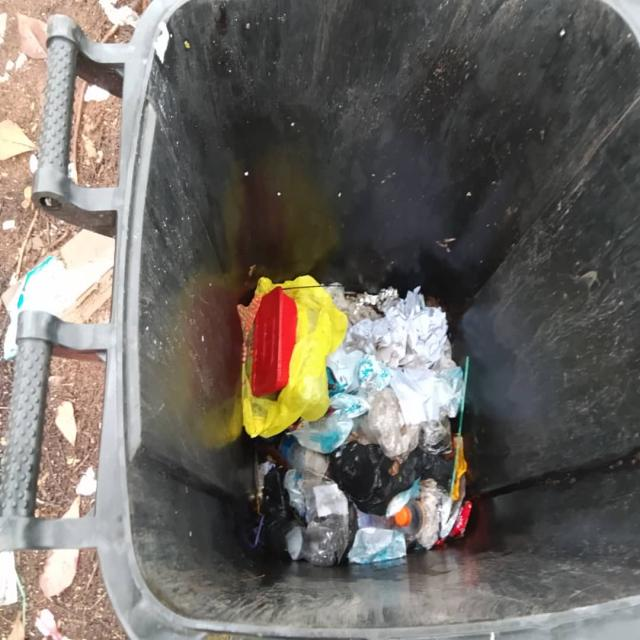half-full: (121, 0, 640, 624)
